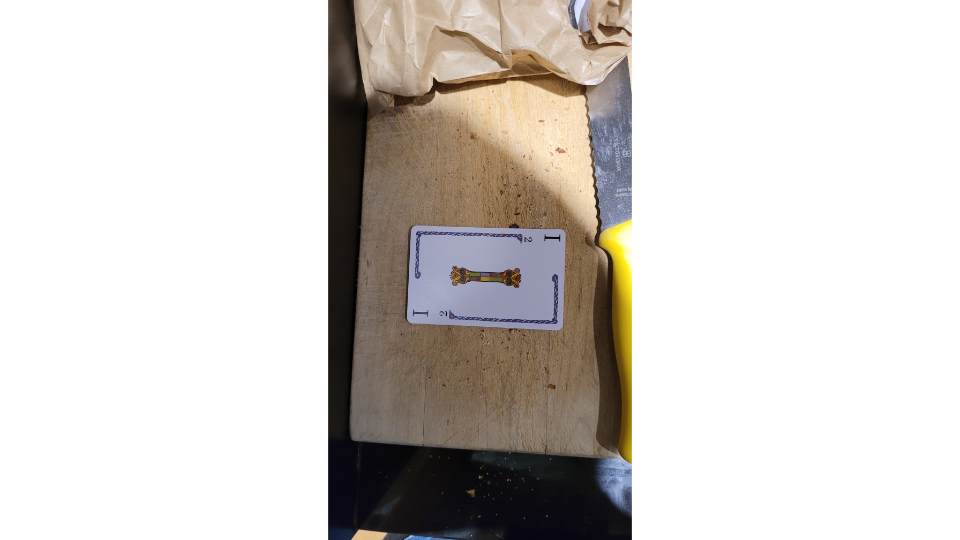I: (402, 219, 568, 336)
